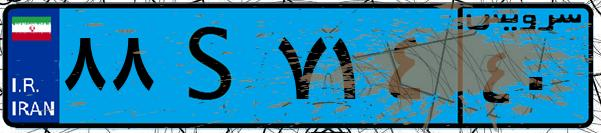0: (525, 38, 570, 115)
1: (330, 28, 385, 110)
4: (385, 28, 445, 110), (475, 38, 525, 113)
7: (270, 28, 330, 110)
8: (57, 26, 110, 100), (110, 28, 158, 98)
S: (158, 12, 270, 120)
